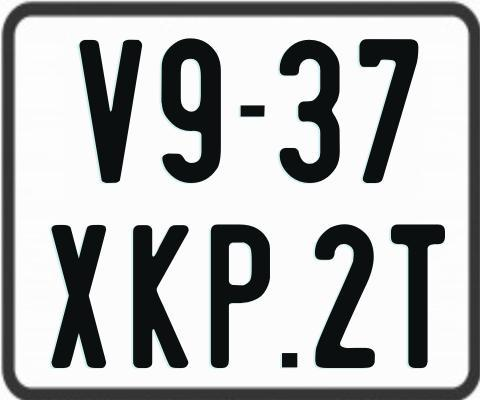2: (313, 223, 379, 370)
3: (277, 38, 341, 182)
7: (356, 37, 416, 182)
9: (160, 36, 225, 184)
K: (131, 225, 187, 370)
P: (208, 223, 273, 368)
T: (391, 223, 451, 367)
V: (80, 39, 147, 187)
X: (49, 224, 104, 368)
